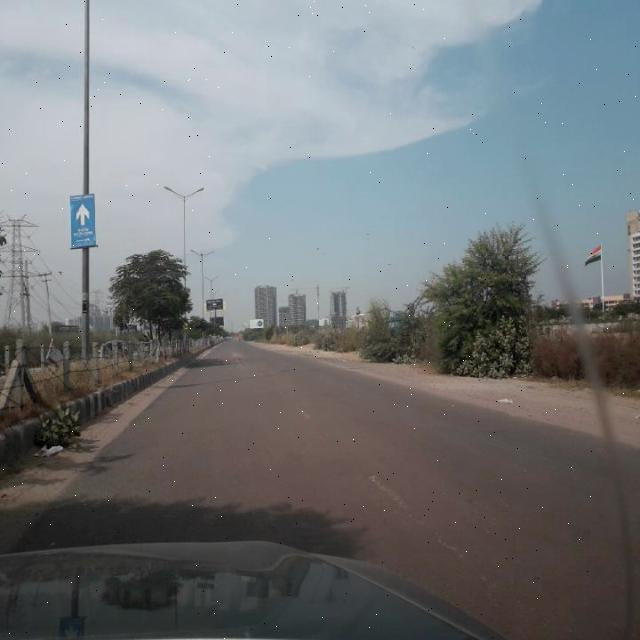D44: (364, 466, 484, 570)
